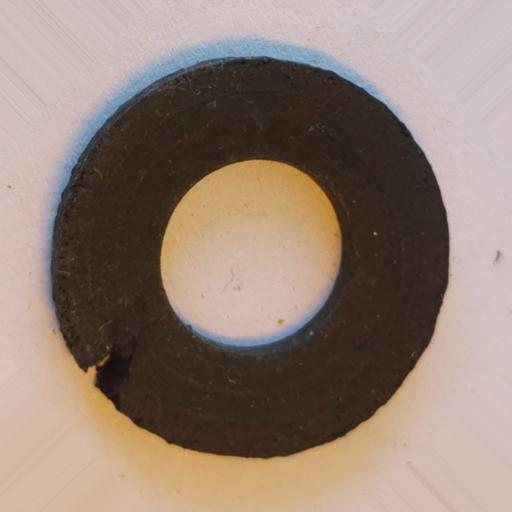defect: (84, 343, 133, 408)
